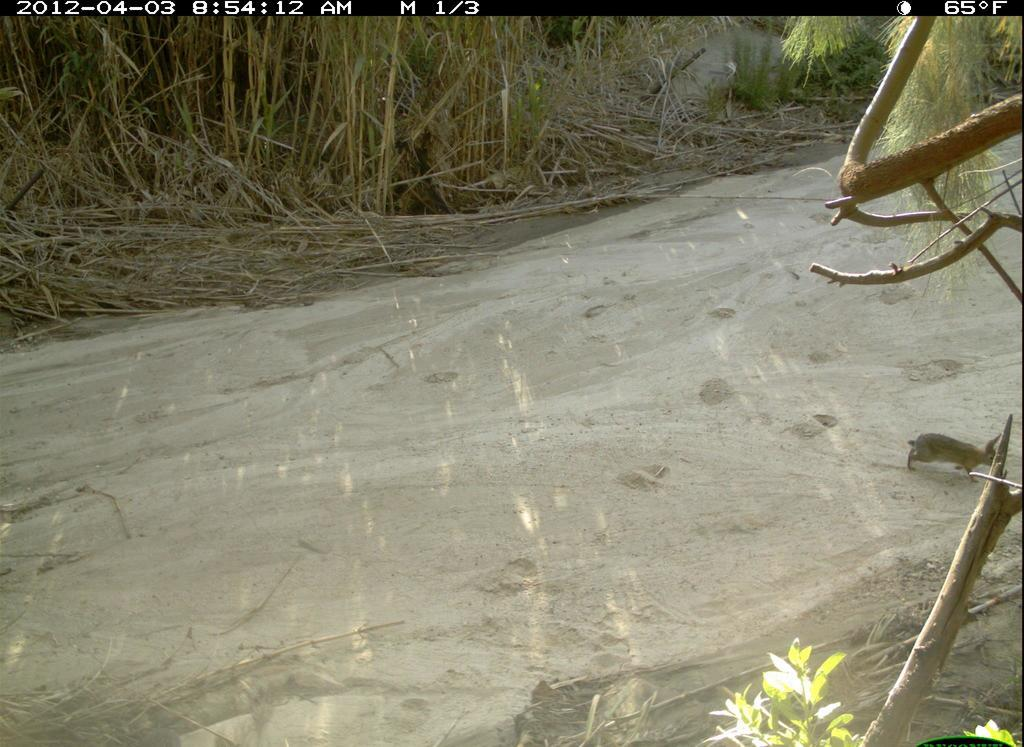rabbit: (903, 425, 1009, 492)
